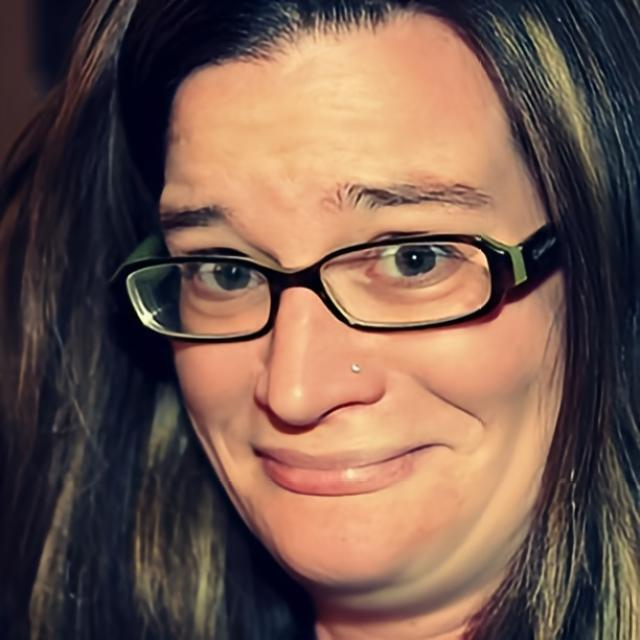surprise: (156, 8, 568, 592)
